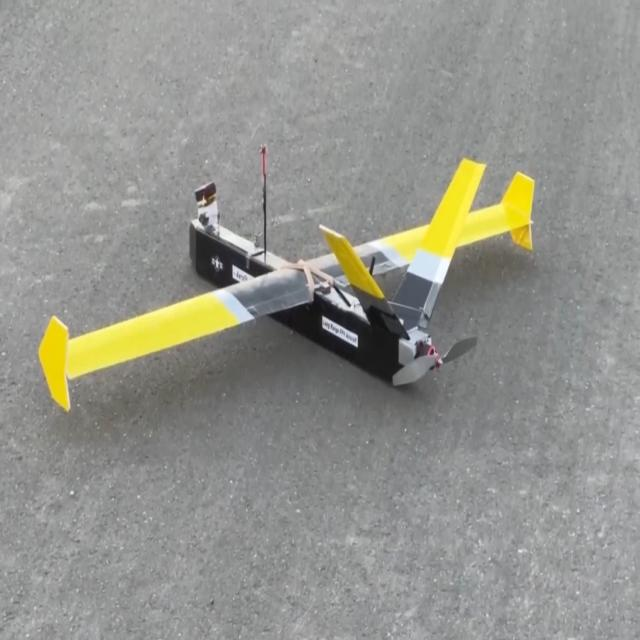iha: (34, 159, 530, 416)
